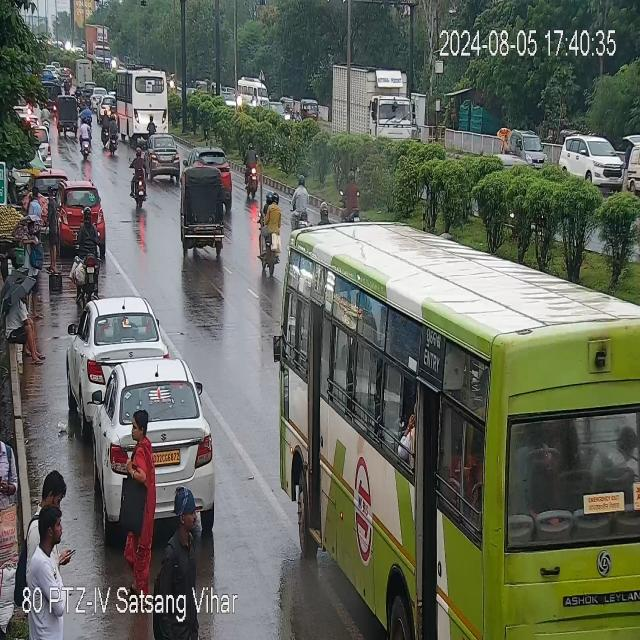2-wheelers: (76, 208, 103, 292), (258, 188, 282, 276), (126, 148, 152, 208), (243, 147, 262, 200), (58, 92, 80, 135), (30, 172, 63, 198)
auto: (179, 165, 232, 255)
bus: (274, 206, 640, 567), (326, 66, 419, 145), (119, 70, 168, 133), (82, 23, 107, 74), (77, 122, 94, 164), (300, 98, 311, 125)
car: (100, 356, 215, 489), (72, 294, 160, 396), (58, 181, 107, 246), (563, 133, 619, 181), (505, 125, 545, 161), (146, 136, 178, 175), (187, 148, 231, 172)
pedestrian: (24, 486, 73, 640), (116, 408, 156, 596), (166, 485, 207, 636), (0, 284, 51, 368), (46, 192, 59, 271)
truck: (237, 76, 268, 111)
